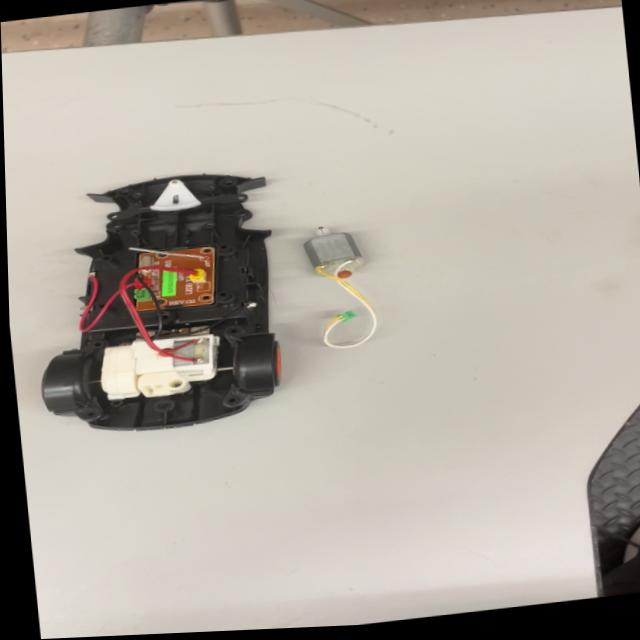Chassis: (18, 162, 297, 446)
motor: (293, 213, 374, 293)
